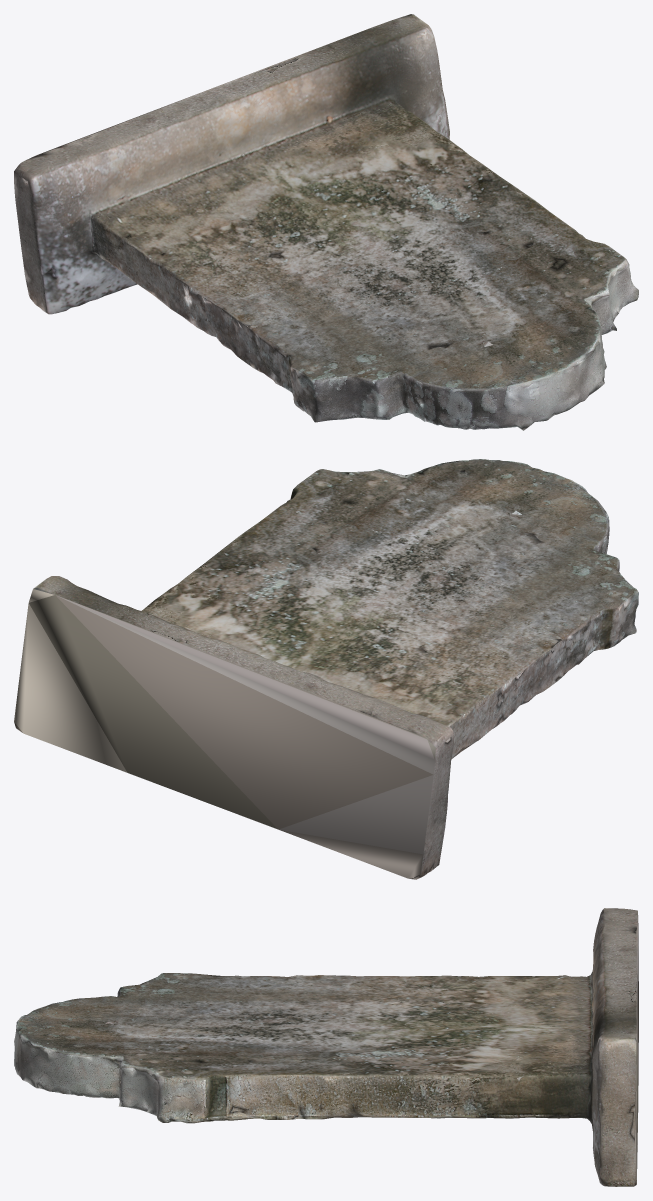
The model's file is BONAVENTURE_TOMBSTONE_!.obj.
3 views of the same model, one above another, from view 1: azimuth 30°, elevation 25°; view 2: azimuth 150°, elevation 25°; view 3: azimuth 270°, elevation 25° (orthographic). The views are drawn at different scales.
Parts seen in each view (by area): view 1: Group_Global; view 2: Group_Global; view 3: Group_Global.
Part boxes in pixels (x1,y1,x2,y2): Group_Global: (14,14,638,430); Group_Global: (14,459,638,879); Group_Global: (14,908,638,1186).
Size of the model in its own units: 6.3 by 2.84 by 8.53.
Materials: 4 (4 with a texture image).
